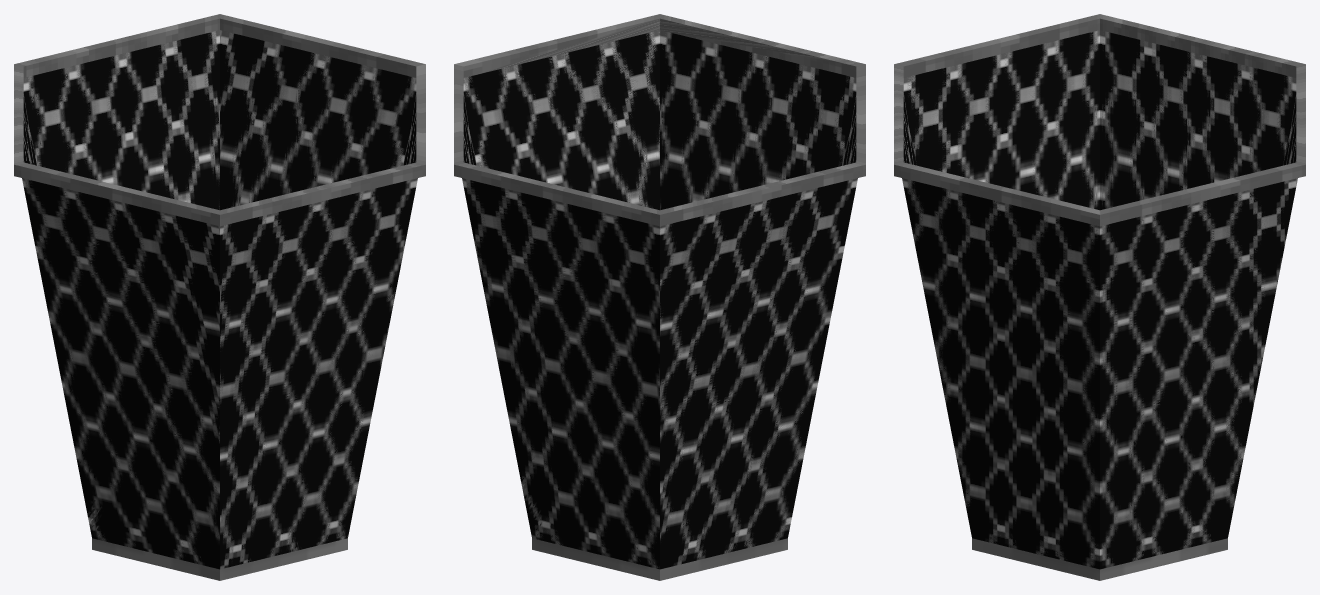
File: SM_Bin.fbx
3 renders of one model, left to right at view 1: azimuth 30°, elevation 25°; view 2: azimuth 150°, elevation 25°; view 3: azimuth 270°, elevation 25°, orthographic.
Visible parts, largest first — view 1: SM_Bin; view 2: SM_Bin; view 3: SM_Bin.
Boxes of the visible parts, box(x1,y1,x2,y2) form: SM_Bin: box(14, 14, 425, 580); SM_Bin: box(454, 14, 865, 580); SM_Bin: box(894, 14, 1305, 580).
Size of the model in its own units: 48.91 by 45.88 by 42.36.
3 materials, 3 textured.
